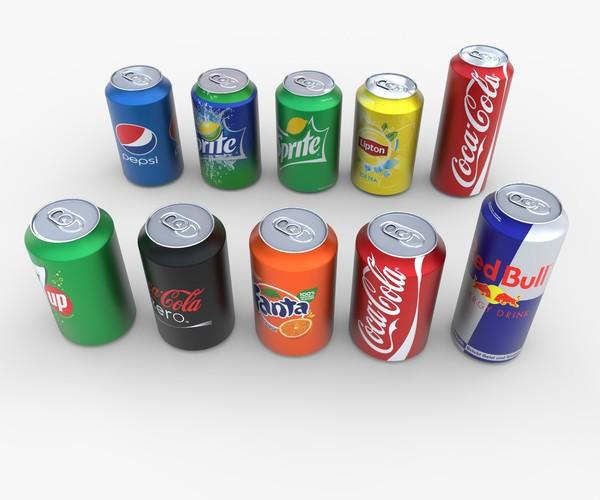can: (449, 180, 572, 366), (19, 194, 140, 352), (346, 207, 449, 366), (135, 201, 239, 354), (247, 205, 341, 360), (429, 41, 517, 199), (101, 60, 187, 193), (187, 63, 267, 195), (349, 70, 427, 199), (274, 68, 344, 197)
